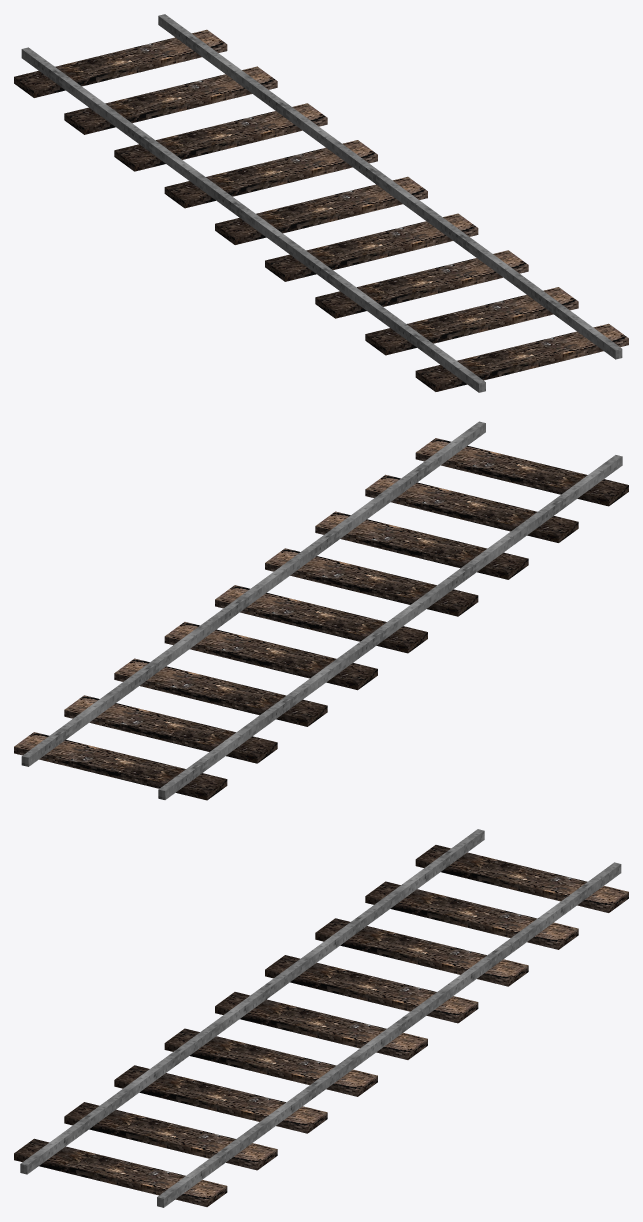
The model's file is pixel_train_tracks_lowpoly.fbx.
3 views of the same model, one above another, from view 1: azimuth 30°, elevation 25°; view 2: azimuth 150°, elevation 25°; view 3: azimuth 330°, elevation 25° (orthographic).
Visible parts, largest first — view 1: psx_traintrack_wood, psx_traintrack; view 2: psx_traintrack_wood, psx_traintrack; view 3: psx_traintrack_wood, psx_traintrack.
Boxes of the visible parts, x1=… form: psx_traintrack_wood: x1=14, y1=29, x2=628, y2=391; psx_traintrack: x1=21, y1=14, x2=622, y2=392; psx_traintrack_wood: x1=14, y1=438, x2=628, y2=800; psx_traintrack: x1=21, y1=421, x2=622, y2=799; psx_traintrack_wood: x1=14, y1=845, x2=628, y2=1206; psx_traintrack: x1=20, y1=829, x2=621, y2=1207.
Bounding box in the file's own units: 400 × 31.35 × 1640.
